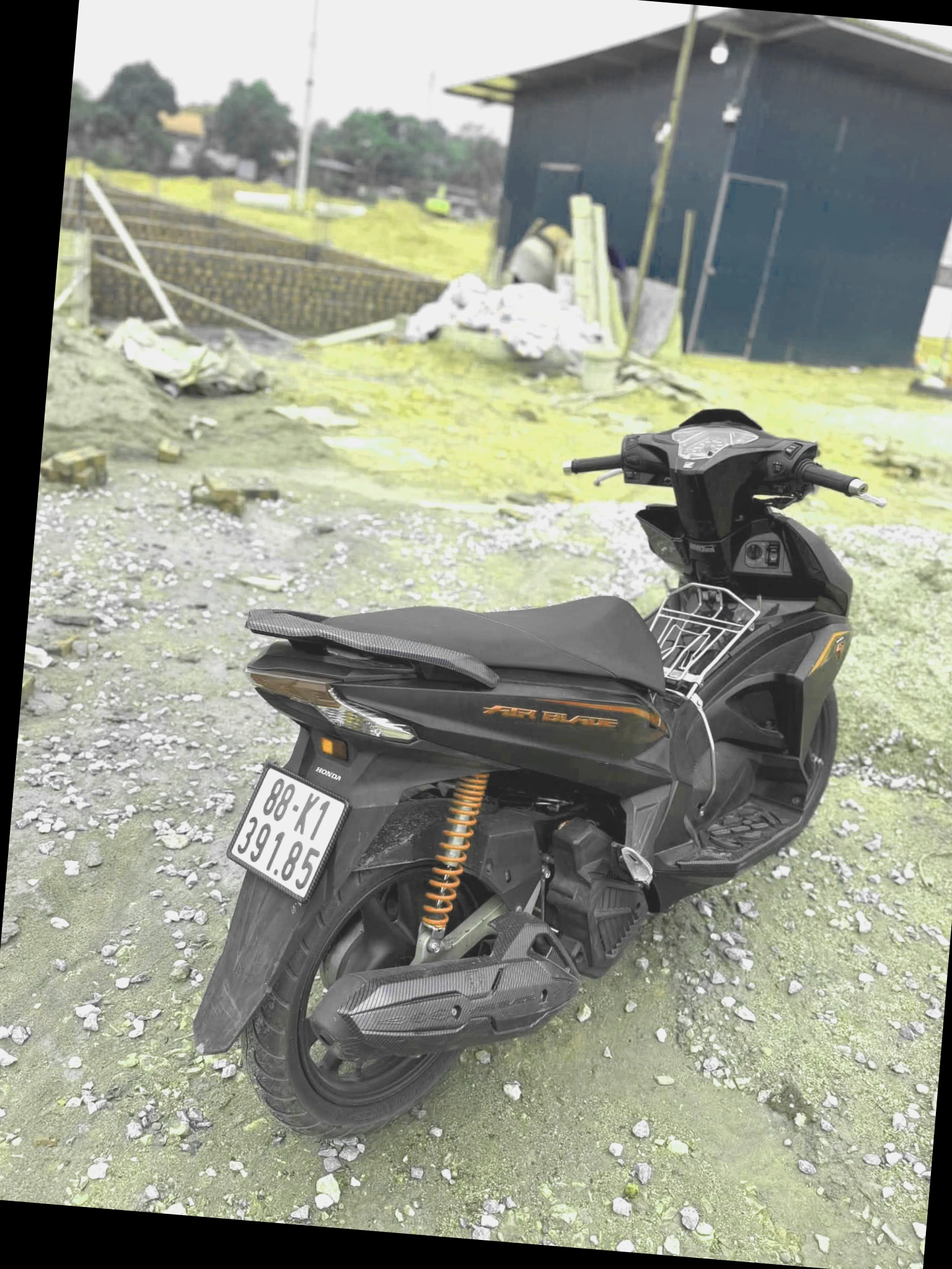Bien-so: (262, 801, 376, 932)
